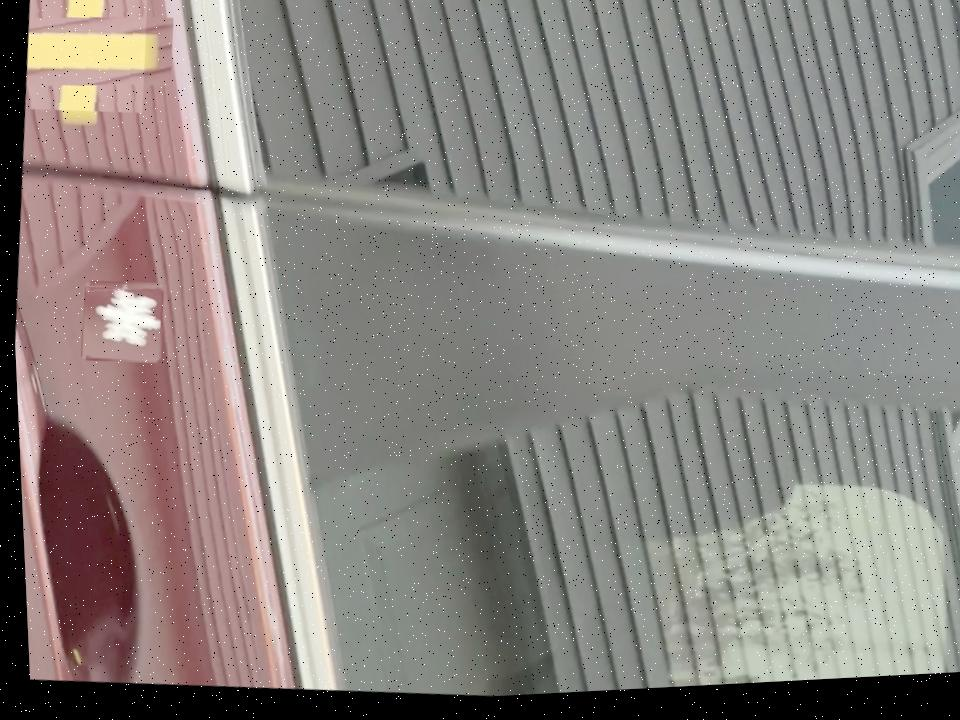dent: (76, 281, 161, 367)
scratch: (20, 0, 151, 119)
